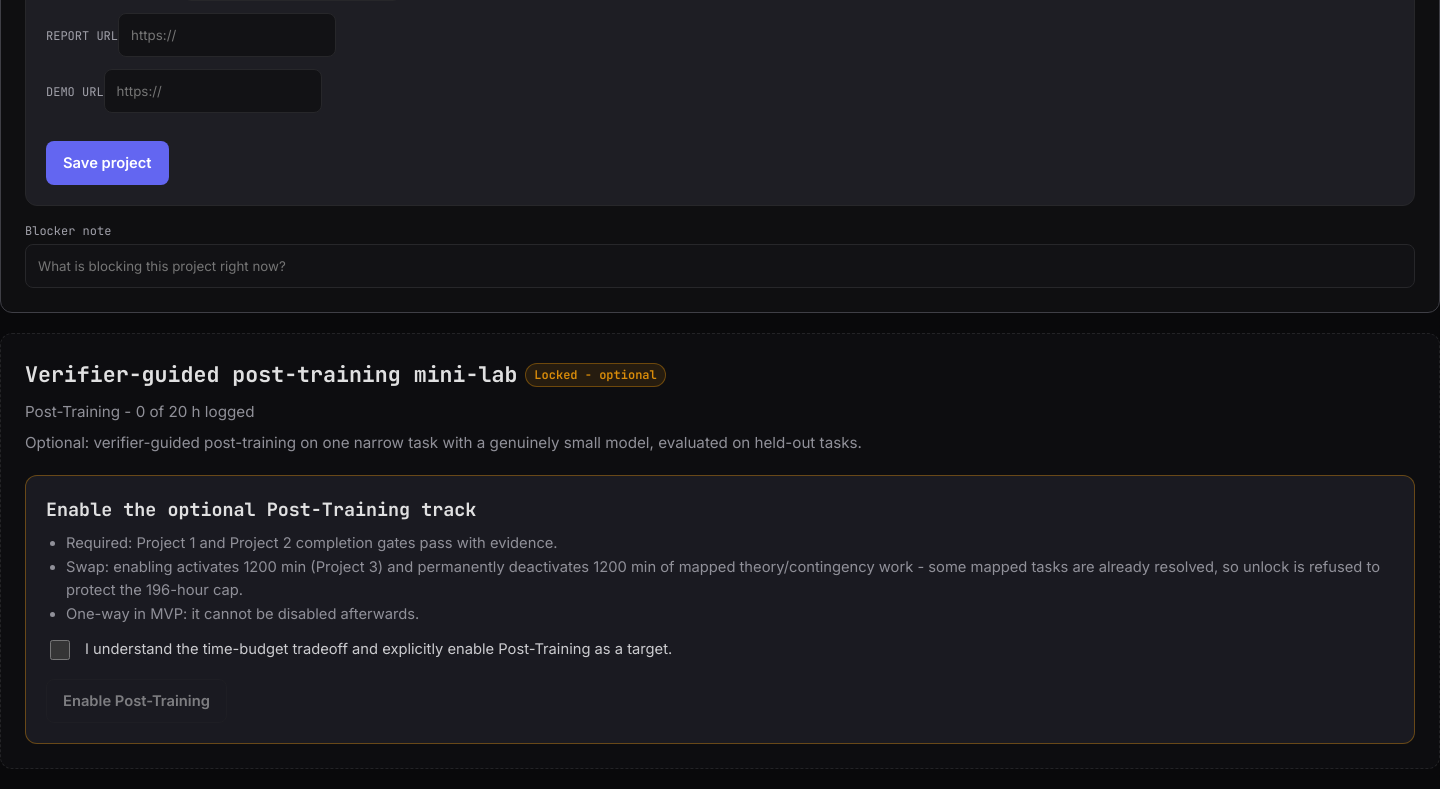
ProjectsView › shows the locked Post-Training card with the time-budget tradeoff and opt-in gate
(page scrolled)
Expected: the heading "Enable the optional Post-Training track" is shown, [46,497,476,522]
Expected: the list item that starts with "Swap: enabling activates" is shown, [66,556,1394,603]
Step 1. Click the checkbox labelled "explicitly enable Post-Training" → [60, 650], box [50,640,70,660]
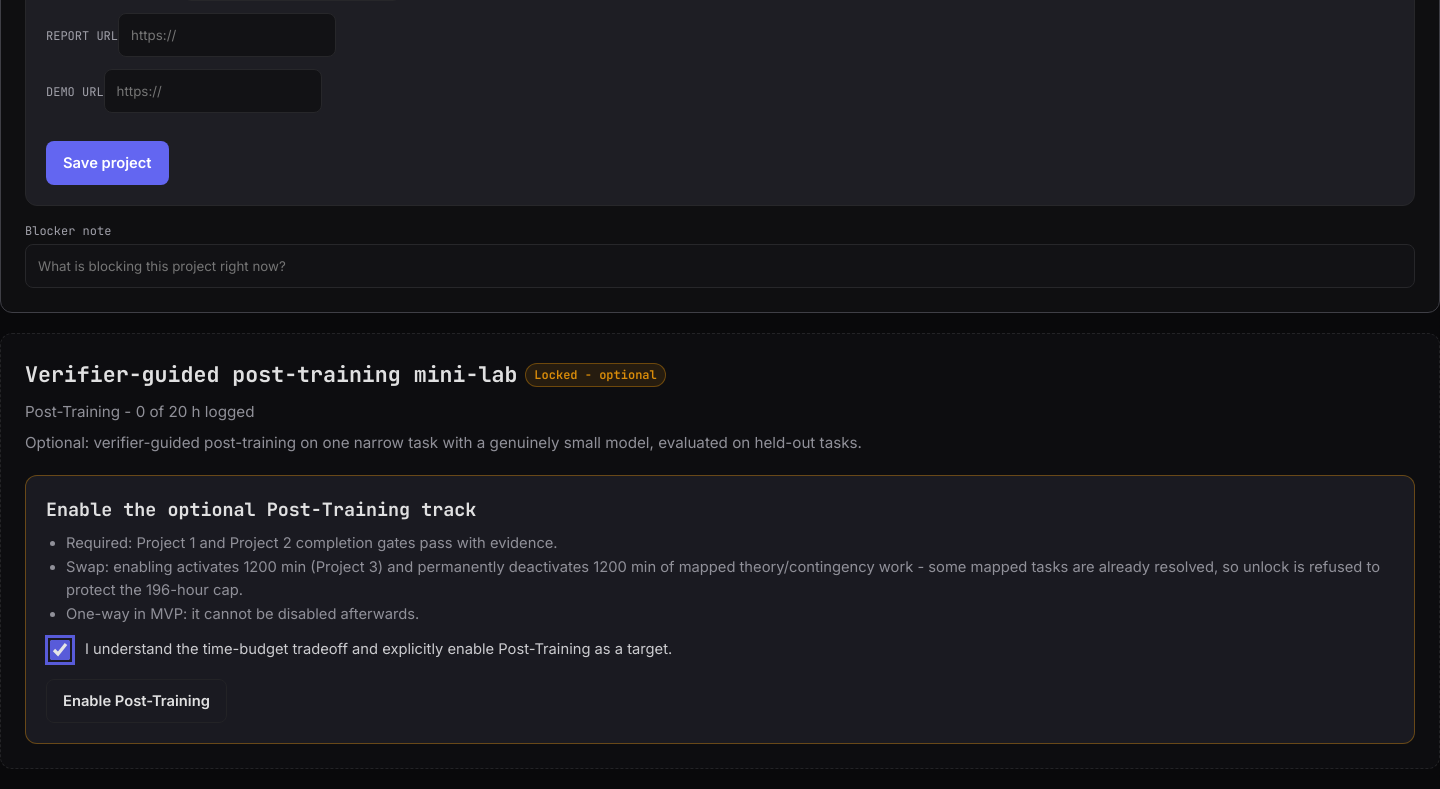
Expected: the button "Enable Post-Training" is enabled, [46,680,227,724]
